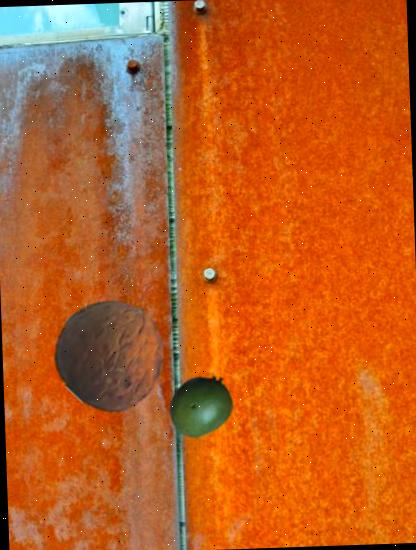Mango: (166, 370, 236, 442)
Walnut: (53, 297, 168, 412)
